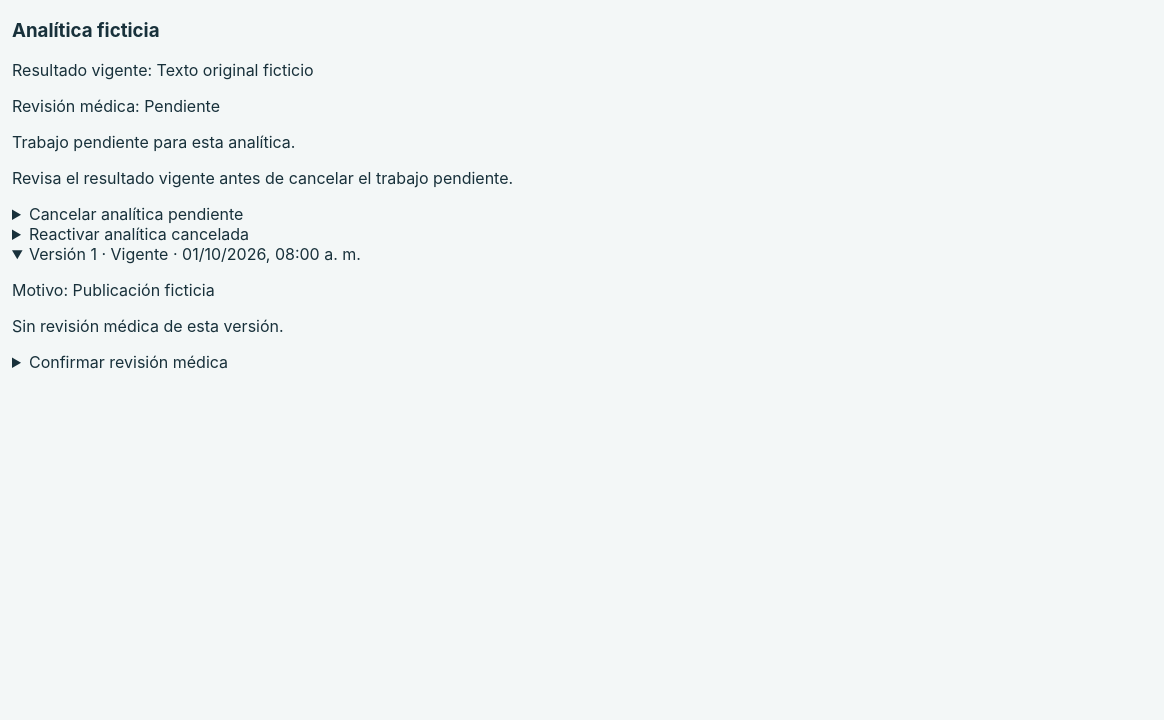
Test: cancelación y reactivación de analíticas › resultado vigente impide cancelar cuando completado=false
The width and height of the screenshot is (1164, 720).
Click the heading "Cancelar analítica pendiente" at (136, 214), box [29, 204, 243, 224]
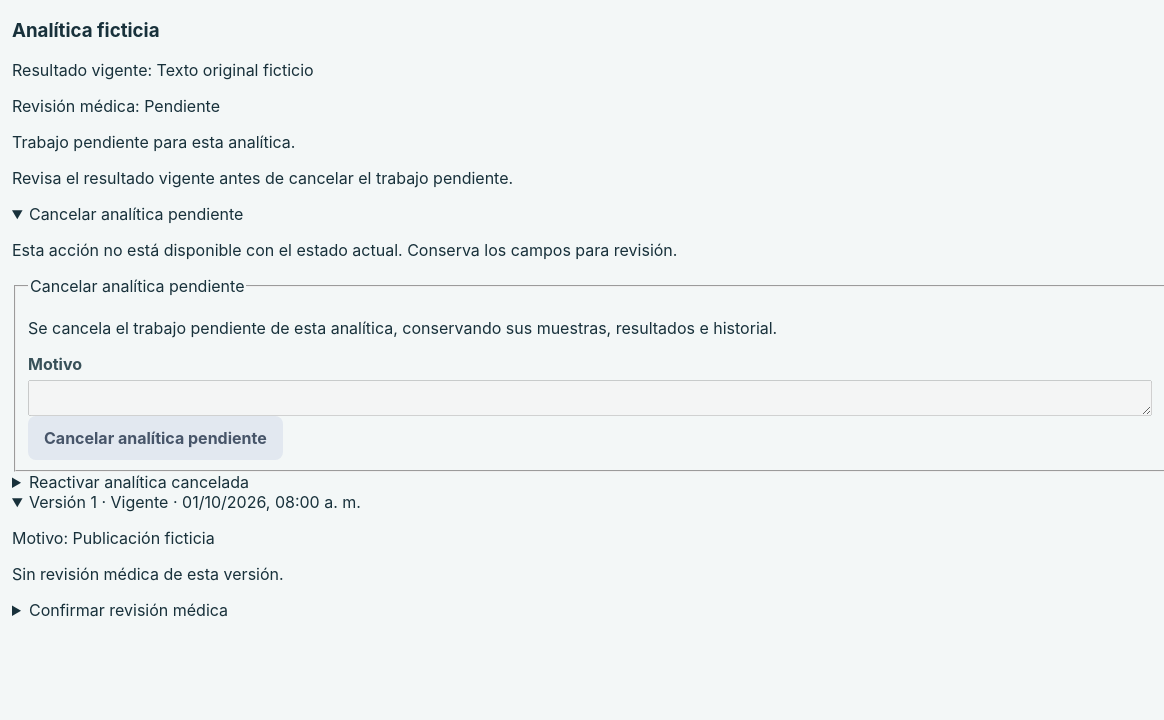
Result: the button "Cancelar analítica pendiente" is disabled at [28, 416, 283, 460]
